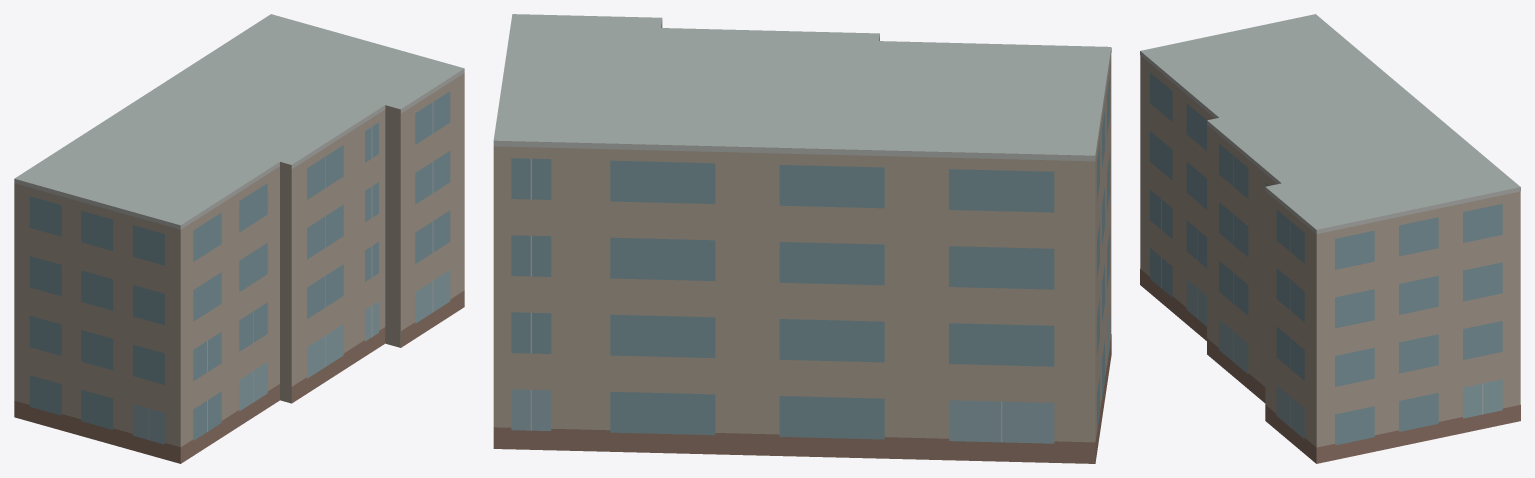
Rendered from survey-upis-32837025.glb.
3 renders of one model, left to right at view 1: azimuth 30°, elevation 25°; view 2: azimuth 150°, elevation 25°; view 3: azimuth 270°, elevation 25°, orthographic. The views are drawn at different scales.
Parts seen in each view (by area): view 1: survey-upis-32837025.tmp; view 2: survey-upis-32837025.tmp; view 3: survey-upis-32837025.tmp.
Boxes of the visible parts, x1,y1,x2,y2 form: survey-upis-32837025.tmp: (14, 14, 464, 463); survey-upis-32837025.tmp: (493, 14, 1111, 463); survey-upis-32837025.tmp: (1140, 14, 1520, 463).
Size of the model in its own units: 26.22 by 13.25 by 19.54.
